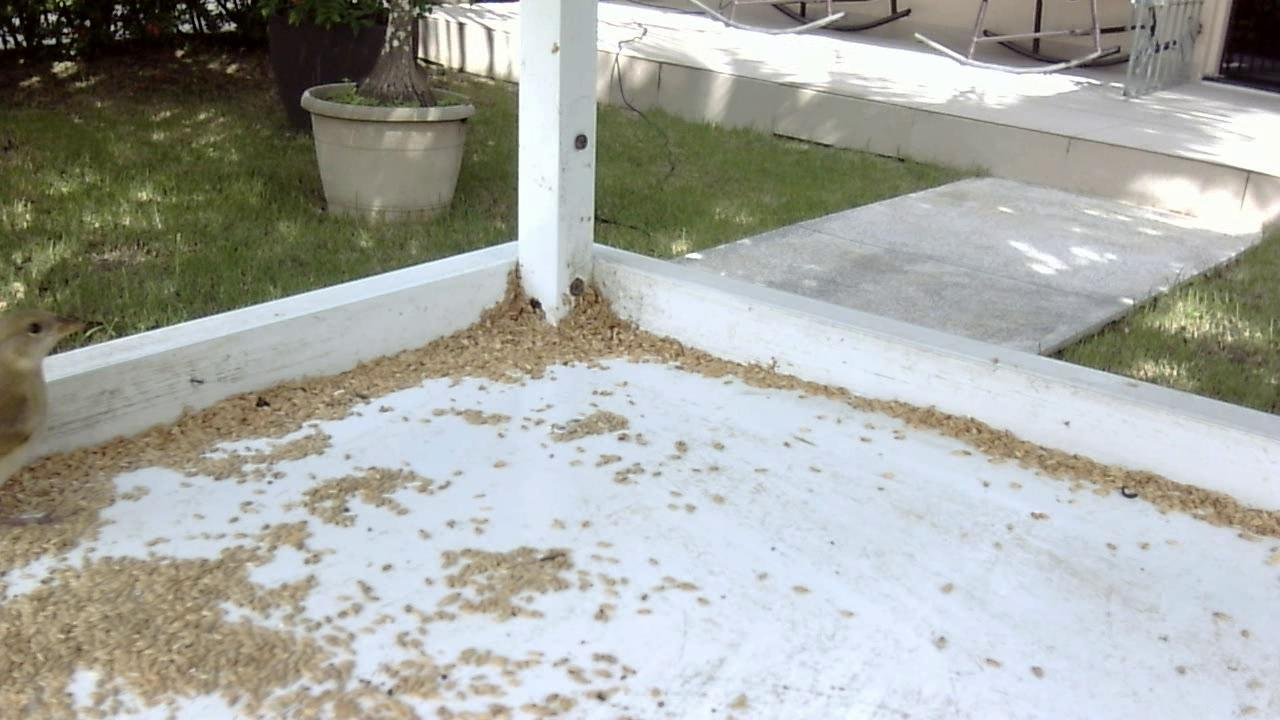canario_do_amazonas: (1, 302, 102, 543)
